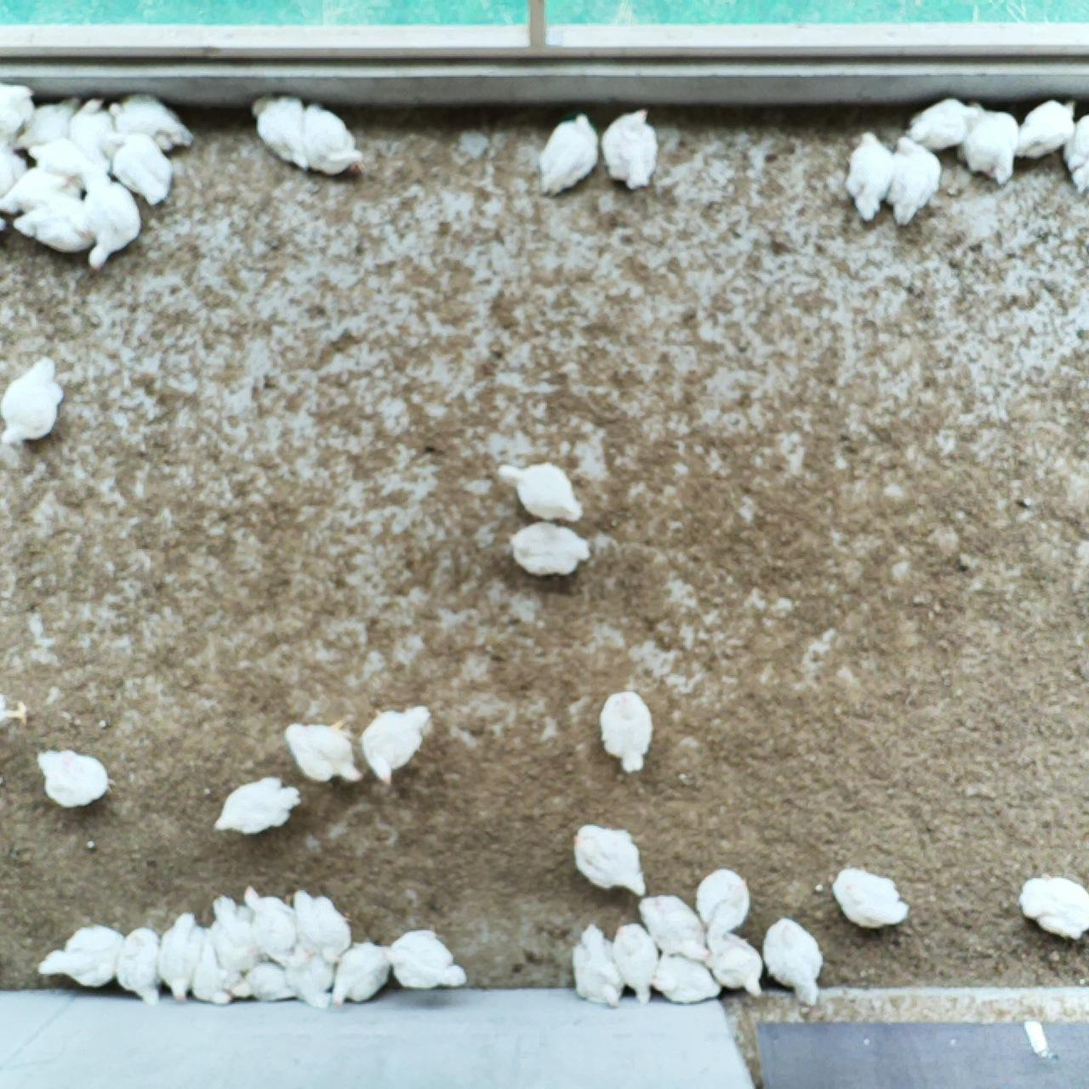chicken: (380, 921, 470, 992), (358, 702, 434, 785), (34, 920, 124, 989), (497, 458, 588, 525), (0, 355, 67, 446), (283, 710, 365, 784), (105, 126, 177, 210), (82, 178, 145, 274), (572, 821, 650, 898), (760, 916, 826, 1007), (211, 773, 302, 836), (536, 108, 600, 197), (635, 888, 712, 961), (690, 866, 753, 955), (600, 107, 666, 191), (831, 864, 913, 931), (296, 101, 369, 176), (887, 135, 945, 228), (569, 919, 628, 1010), (507, 518, 592, 581), (103, 90, 194, 148), (1016, 870, 1089, 942), (958, 107, 1022, 189), (247, 91, 310, 174), (11, 194, 97, 254), (842, 128, 895, 224), (36, 748, 118, 810), (597, 688, 655, 775), (291, 887, 356, 963), (241, 883, 301, 962), (645, 949, 724, 1006), (611, 919, 662, 1007), (905, 98, 983, 155), (329, 940, 393, 1008), (157, 910, 205, 999), (1013, 95, 1079, 159), (207, 891, 258, 972), (18, 92, 84, 153), (708, 929, 765, 999), (116, 926, 162, 1008), (0, 166, 73, 217), (187, 938, 242, 1005), (287, 943, 336, 1012), (26, 135, 95, 182), (68, 95, 116, 155), (228, 959, 292, 1000), (1060, 113, 1089, 198), (0, 77, 35, 147), (0, 142, 29, 196)
